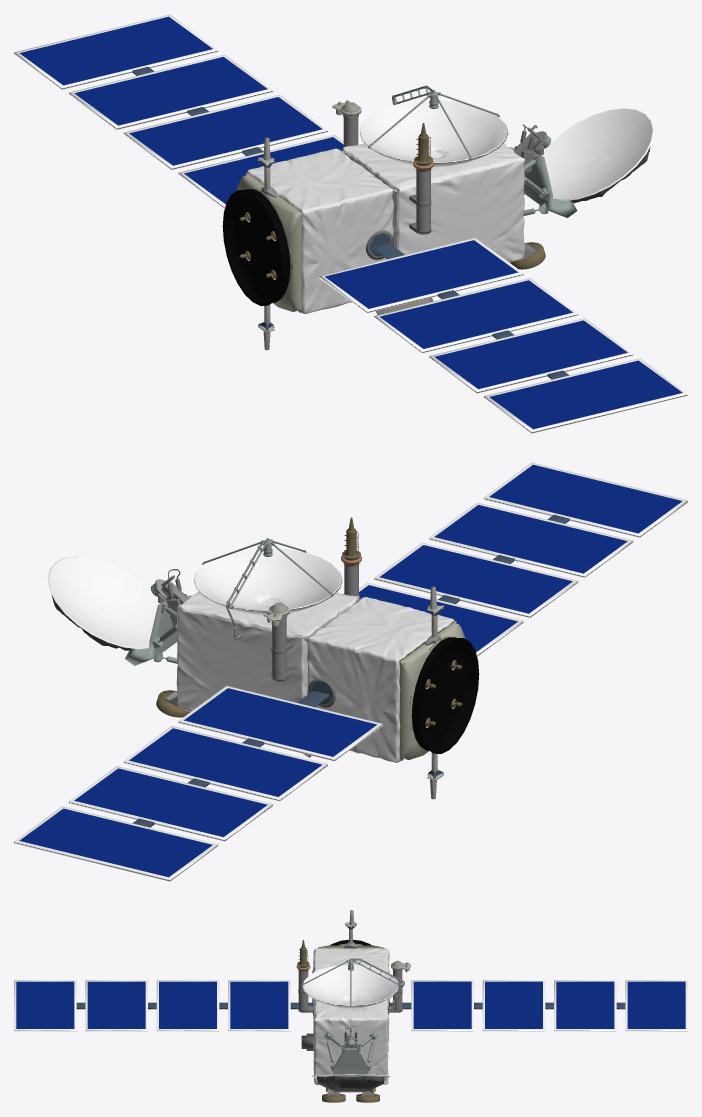
The model's file is OceanSurfaceTopographyMissionOSTMJason2.glb.
The picture shows the model from 3 angles, top to bottom: view 1: azimuth 30°, elevation 25°; view 2: azimuth 150°, elevation 25°; view 3: azimuth 270°, elevation 25°; orthographic projection. The views are drawn at different scales.
Visible parts, largest first — view 1: OSTM-Jason2_Layered_016 [Layer31], OSTM-Jason2_Layered_016 [(unnamed)], OSTM-Jason2_Layered_016 [Layer10], OSTM-Jason2_Layered_016 [Layer33], OSTM-Jason2_Layered_016 [Layer9], OSTM-Jason2_Layered_016 [Layer11], OSTM-Jason2_Layered_016 [Layer8], OSTM-Jason2_Layered_016 [Layer34], OSTM-Jason2_Layered_016 [Layer13], OSTM-Jason2_Layered_016 [Layer30]; view 2: OSTM-Jason2_Layered_016 [Layer31], OSTM-Jason2_Layered_016 [(unnamed)], OSTM-Jason2_Layered_016 [Layer10], OSTM-Jason2_Layered_016 [Layer33], OSTM-Jason2_Layered_016 [Layer9], OSTM-Jason2_Layered_016 [Layer11], OSTM-Jason2_Layered_016 [Layer8], OSTM-Jason2_Layered_016 [Layer34], OSTM-Jason2_Layered_016 [Layer13], OSTM-Jason2_Layered_016 [Layer30]; view 3: OSTM-Jason2_Layered_016 [Layer31], OSTM-Jason2_Layered_016 [(unnamed)], OSTM-Jason2_Layered_016 [Layer33], OSTM-Jason2_Layered_016 [Layer10], OSTM-Jason2_Layered_016 [Layer11], OSTM-Jason2_Layered_016 [Layer36], OSTM-Jason2_Layered_016 [Layer34], OSTM-Jason2_Layered_016 [Layer13], OSTM-Jason2_Layered_016 [Layer25].
Boxes of the visible parts, x1,y1,x2,y2 form: OSTM-Jason2_Layered_016 [Layer31]: (19,16,682,429); OSTM-Jason2_Layered_016 [(unnamed)]: (246,143,524,314); OSTM-Jason2_Layered_016 [Layer10]: (359,100,654,201); OSTM-Jason2_Layered_016 [Layer33]: (14,14,687,433); OSTM-Jason2_Layered_016 [Layer9]: (222,189,290,305); OSTM-Jason2_Layered_016 [Layer11]: (368,85,577,217); OSTM-Jason2_Layered_016 [Layer8]: (236,172,302,312); OSTM-Jason2_Layered_016 [Layer34]: (132,66,569,379); OSTM-Jason2_Layered_016 [Layer13]: (343,117,430,231); OSTM-Jason2_Layered_016 [Layer30]: (258,137,274,350); OSTM-Jason2_Layered_016 [Layer31]: (19,464,682,877); OSTM-Jason2_Layered_016 [(unnamed)]: (176,592,454,762); OSTM-Jason2_Layered_016 [Layer10]: (47,548,342,649); OSTM-Jason2_Layered_016 [Layer33]: (14,462,687,881); OSTM-Jason2_Layered_016 [Layer9]: (411,637,479,753); OSTM-Jason2_Layered_016 [Layer11]: (125,538,333,665); OSTM-Jason2_Layered_016 [Layer8]: (399,621,465,760); OSTM-Jason2_Layered_016 [Layer34]: (132,514,569,827); OSTM-Jason2_Layered_016 [Layer13]: (272,565,358,678); OSTM-Jason2_Layered_016 [Layer30]: (427,586,443,799); OSTM-Jason2_Layered_016 [Layer31]: (16,981,685,1028); OSTM-Jason2_Layered_016 [(unnamed)]: (313,948,389,1084); OSTM-Jason2_Layered_016 [Layer33]: (14,980,687,1031); OSTM-Jason2_Layered_016 [Layer10]: (302,965,398,1078); OSTM-Jason2_Layered_016 [Layer11]: (301,958,404,1092); OSTM-Jason2_Layered_016 [Layer36]: (317,1075,384,1091); OSTM-Jason2_Layered_016 [Layer34]: (76,998,625,1013); OSTM-Jason2_Layered_016 [Layer13]: (298,971,402,1010); OSTM-Jason2_Layered_016 [Layer25]: (322,1094,379,1102).
Size of the model in its own units: 0.9868 by 0.5367 by 2.25.
